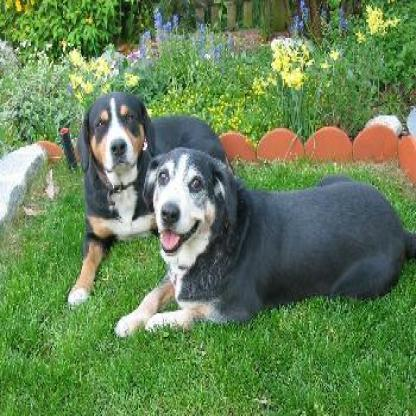EntleBucher: (115, 149, 414, 332), (68, 92, 233, 307)
